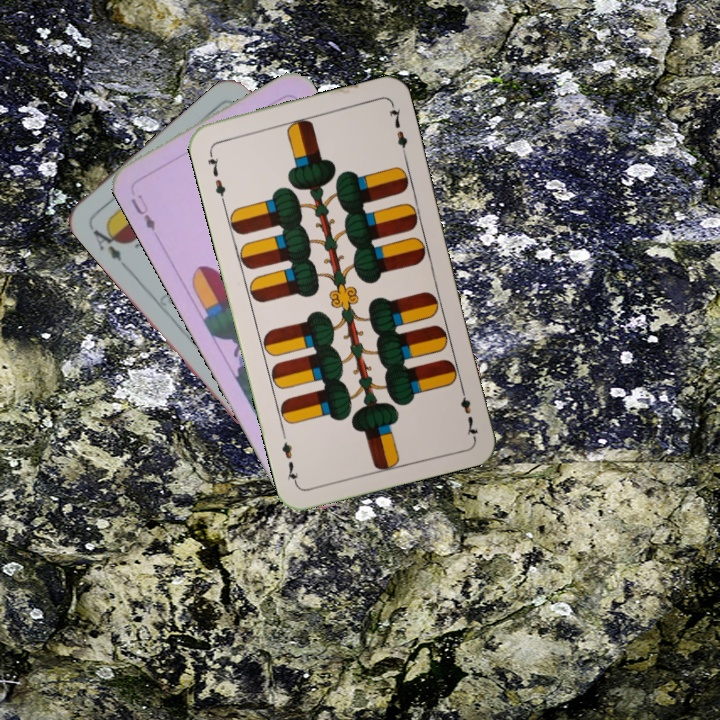E7: (203, 146, 228, 205), (456, 381, 481, 440)
EA: (86, 219, 129, 270)
EU: (126, 190, 158, 234)
